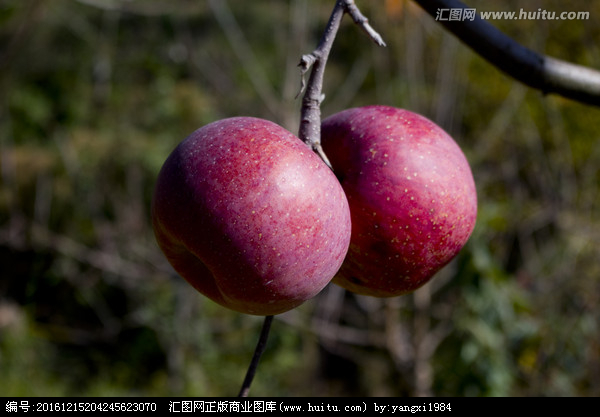apple: (151, 116, 352, 315)
obscured(1)_apple: (309, 104, 475, 296)
